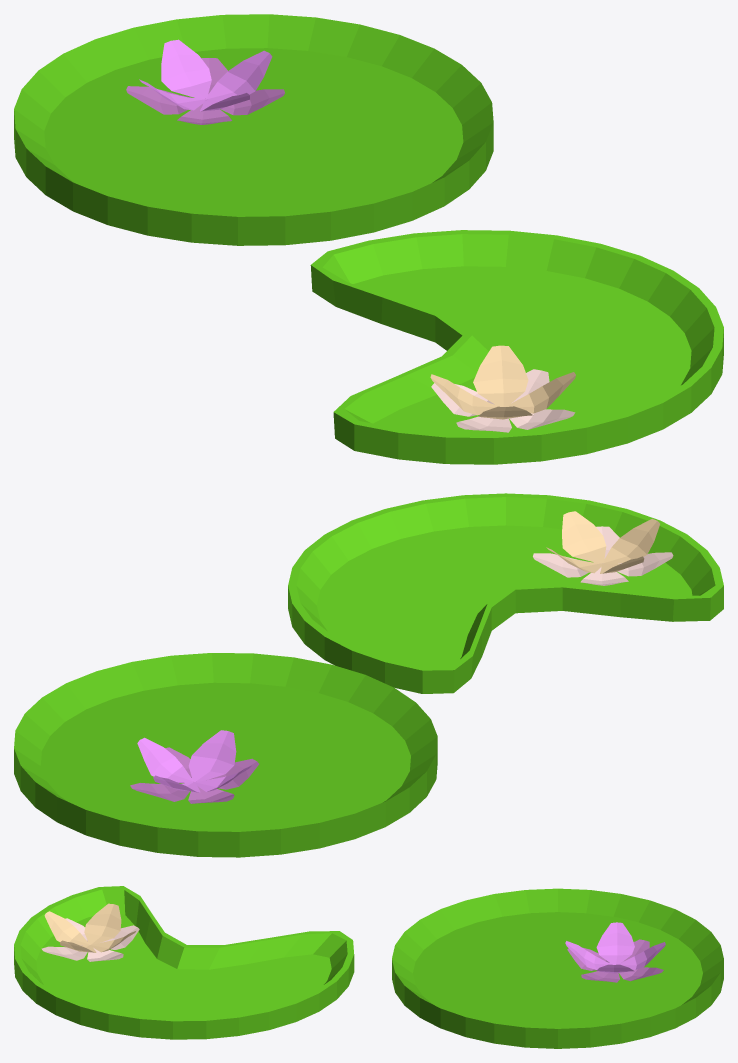
The model's file is waterlily_complete.fbx.
3 views of the same model, one above another, from view 1: azimuth 30°, elevation 25°; view 2: azimuth 150°, elevation 25°; view 3: azimuth 270°, elevation 25° (orthographic). The views are drawn at different scales.
Visible parts, largest first — view 1: Waterlily, Waterlily_Half, Flower_Purple, Flower_White; view 2: Waterlily, Waterlily_Half, Flower_White, Flower_Purple; view 3: Waterlily, Waterlily_Half, Flower_White, Flower_Purple.
Boxes of the visible parts, left/top/right/bottom form: Waterlily: left=14, top=14, right=493, bottom=245; Waterlily_Half: left=310, top=230, right=723, bottom=464; Flower_Purple: left=126, top=39, right=284, bottom=124; Flower_White: left=430, top=345, right=575, bottom=432; Waterlily: left=14, top=653, right=437, bottom=857; Waterlily_Half: left=288, top=493, right=723, bottom=693; Flower_White: left=533, top=511, right=673, bottom=585; Flower_Purple: left=130, top=730, right=258, bottom=803; Waterlily: left=392, top=888, right=723, bottom=1048; Waterlily_Half: left=14, top=886, right=354, bottom=1039; Flower_White: left=41, top=903, right=139, bottom=961; Flower_Purple: left=565, top=922, right=665, bottom=982.
Size of the model in its own units: 40.64 by 4.78 by 81.69.
